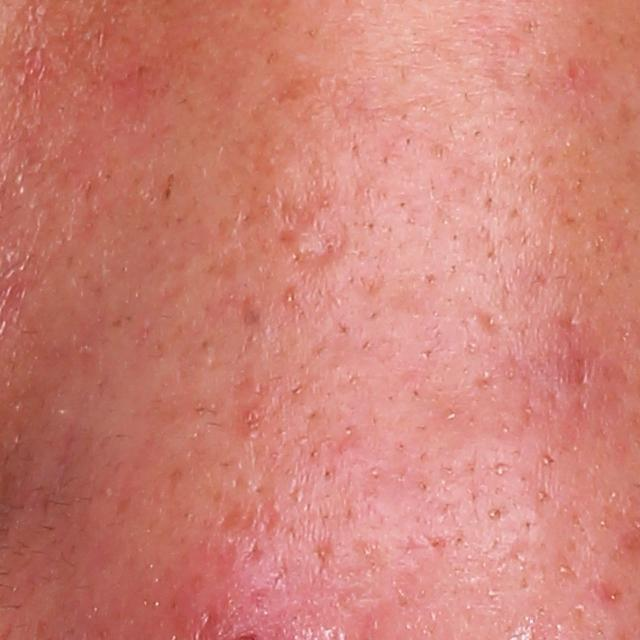atrophic_scar: (275, 199, 357, 277), (216, 496, 292, 567)
comedo: (483, 503, 507, 524)
